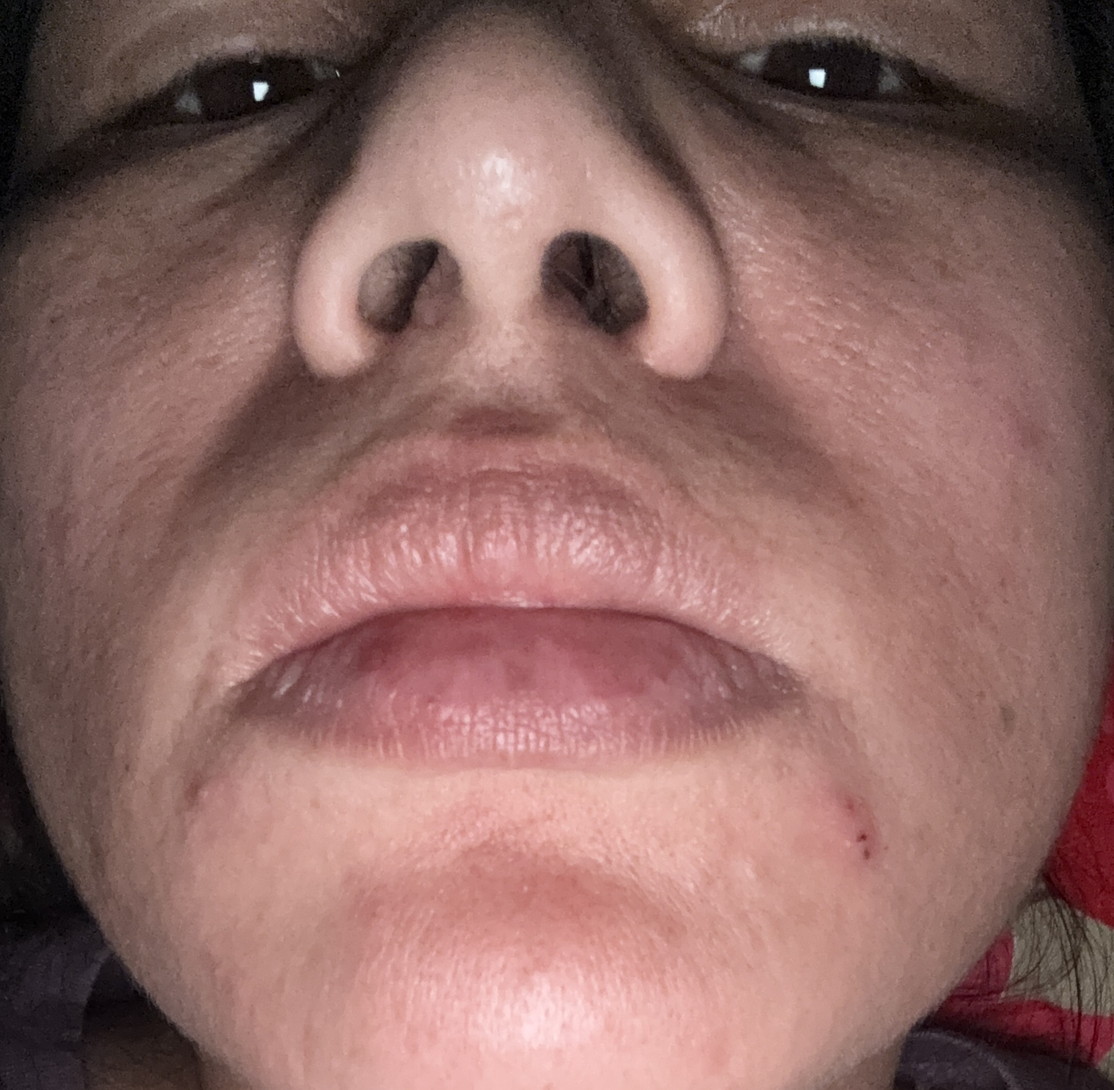papule: (817, 781, 884, 866)
pustule: (173, 767, 247, 832)
